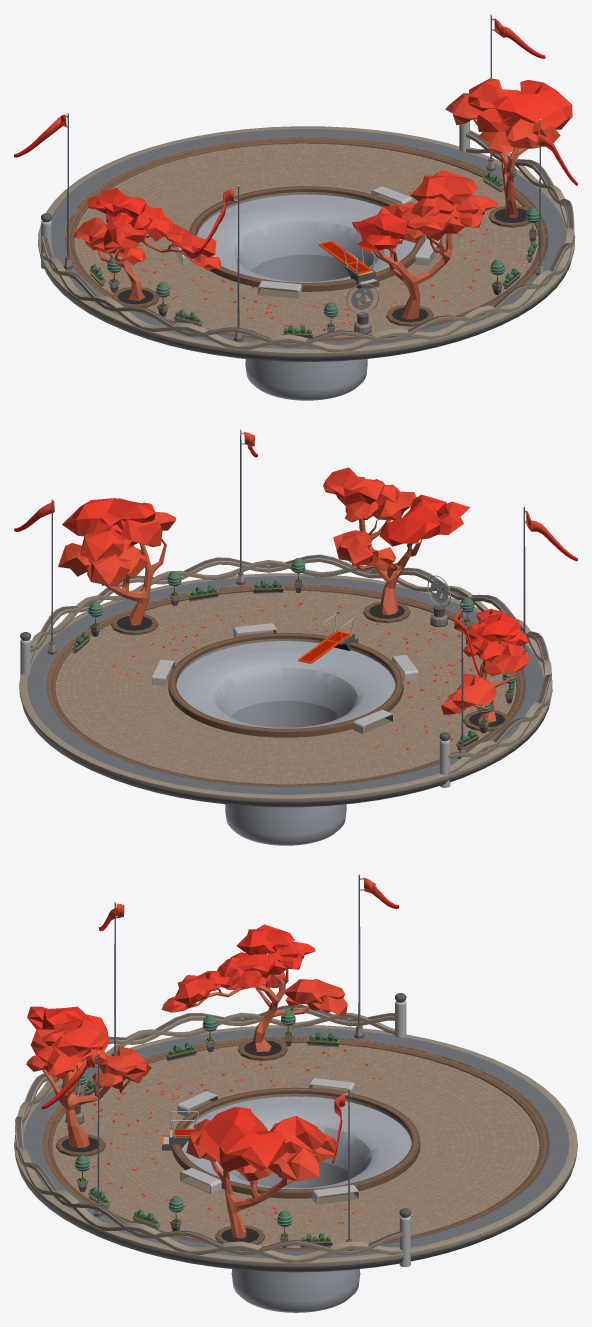
File: lobby_platform_test.glb
3 renders of one model, top to bottom at view 1: azimuth 30°, elevation 25°; view 2: azimuth 150°, elevation 25°; view 3: azimuth 270°, elevation 25°, orthographic. The views are drawn at different scales.
Visible parts, largest first — view 1: cloud_platform.001, Asian_Tree06.061, Asian_Tree05.034, Asian_Tree04.033, cloud_platform.005, cloud_platform.002, Cube, L'architoque_Flags.003, L'architoque_Flags.004, L'architoque_Flags.006, L'architoque_Flags.002, Street_Bancos.120 (+3 smaller); view 2: cloud_platform.001, Asian_Tree06.061, Asian_Tree05.034, Asian_Tree04.033, cloud_platform.002, cloud_platform.005, L'architoque_Flags.004, Cube, L'architoque_Flags.003, L'architoque_Flags.002, Cylinder.014, Cylinder.018 (+4 smaller); view 3: cloud_platform.001, Asian_Tree05.034, Asian_Tree04.033, Asian_Tree06.061, cloud_platform.005, cloud_platform.002, L'architoque_Flags.006, L'architoque_Flags.003, Cylinder.024, Street_Bancos.121, Street_Bancos.124, Cylinder.018 (+5 smaller).
Boxes of the visible parts, <box> form: cloud_platform.001: <box>38,126,575,400</box>; Asian_Tree06.061: <box>352,170,497,319</box>; Asian_Tree05.034: <box>445,78,572,217</box>; Asian_Tree04.033: <box>73,188,221,300</box>; cloud_platform.005: <box>41,147,574,352</box>; cloud_platform.002: <box>41,130,574,347</box>; Cube: <box>319,241,379,288</box>; L'architoque_Flags.003: <box>14,112,73,269</box>; L'architoque_Flags.004: <box>199,184,243,341</box>; L'architoque_Flags.006: <box>535,119,577,275</box>; L'architoque_Flags.002: <box>486,14,545,171</box>; Street_Bancos.120: <box>257,280,301,298</box>; cloud_platform.001: <box>19,573,552,845</box>; Asian_Tree06.061: <box>323,467,470,614</box>; Asian_Tree05.034: <box>58,498,176,625</box>; Asian_Tree04.033: <box>441,608,529,722</box>; cloud_platform.002: <box>31,554,551,758</box>; cloud_platform.005: <box>31,560,551,774</box>; L'architoque_Flags.004: <box>523,506,577,655</box>; Cube: <box>298,630,358,663</box>; L'architoque_Flags.003: <box>454,604,479,758</box>; L'architoque_Flags.002: <box>14,499,56,654</box>; Cylinder.014: <box>111,613,158,635</box>; Cylinder.018: <box>363,602,410,623</box>; cloud_platform.001: <box>14,1025,577,1312</box>; Asian_Tree05.034: <box>186,1107,337,1238</box>; Asian_Tree04.033: <box>161,924,347,1051</box>; Asian_Tree06.061: <box>26,1006,151,1147</box>; cloud_platform.005: <box>15,1012,403,1262</box>; cloud_platform.002: <box>15,1004,403,1254</box>; L'architoque_Flags.006: <box>41,1052,103,1216</box>; L'architoque_Flags.003: <box>354,874,398,1038</box>; Cylinder.024: <box>238,1037,287,1060</box>; Street_Bancos.121: <box>312,1185,359,1205</box>; Street_Bancos.124: <box>180,1168,221,1193</box>; Cylinder.018: <box>56,1134,105,1156</box>.
Size of what is drawn, in the model's own units: 34.3 by 19.38 by 31.93.
8 materials, 8 textured.
